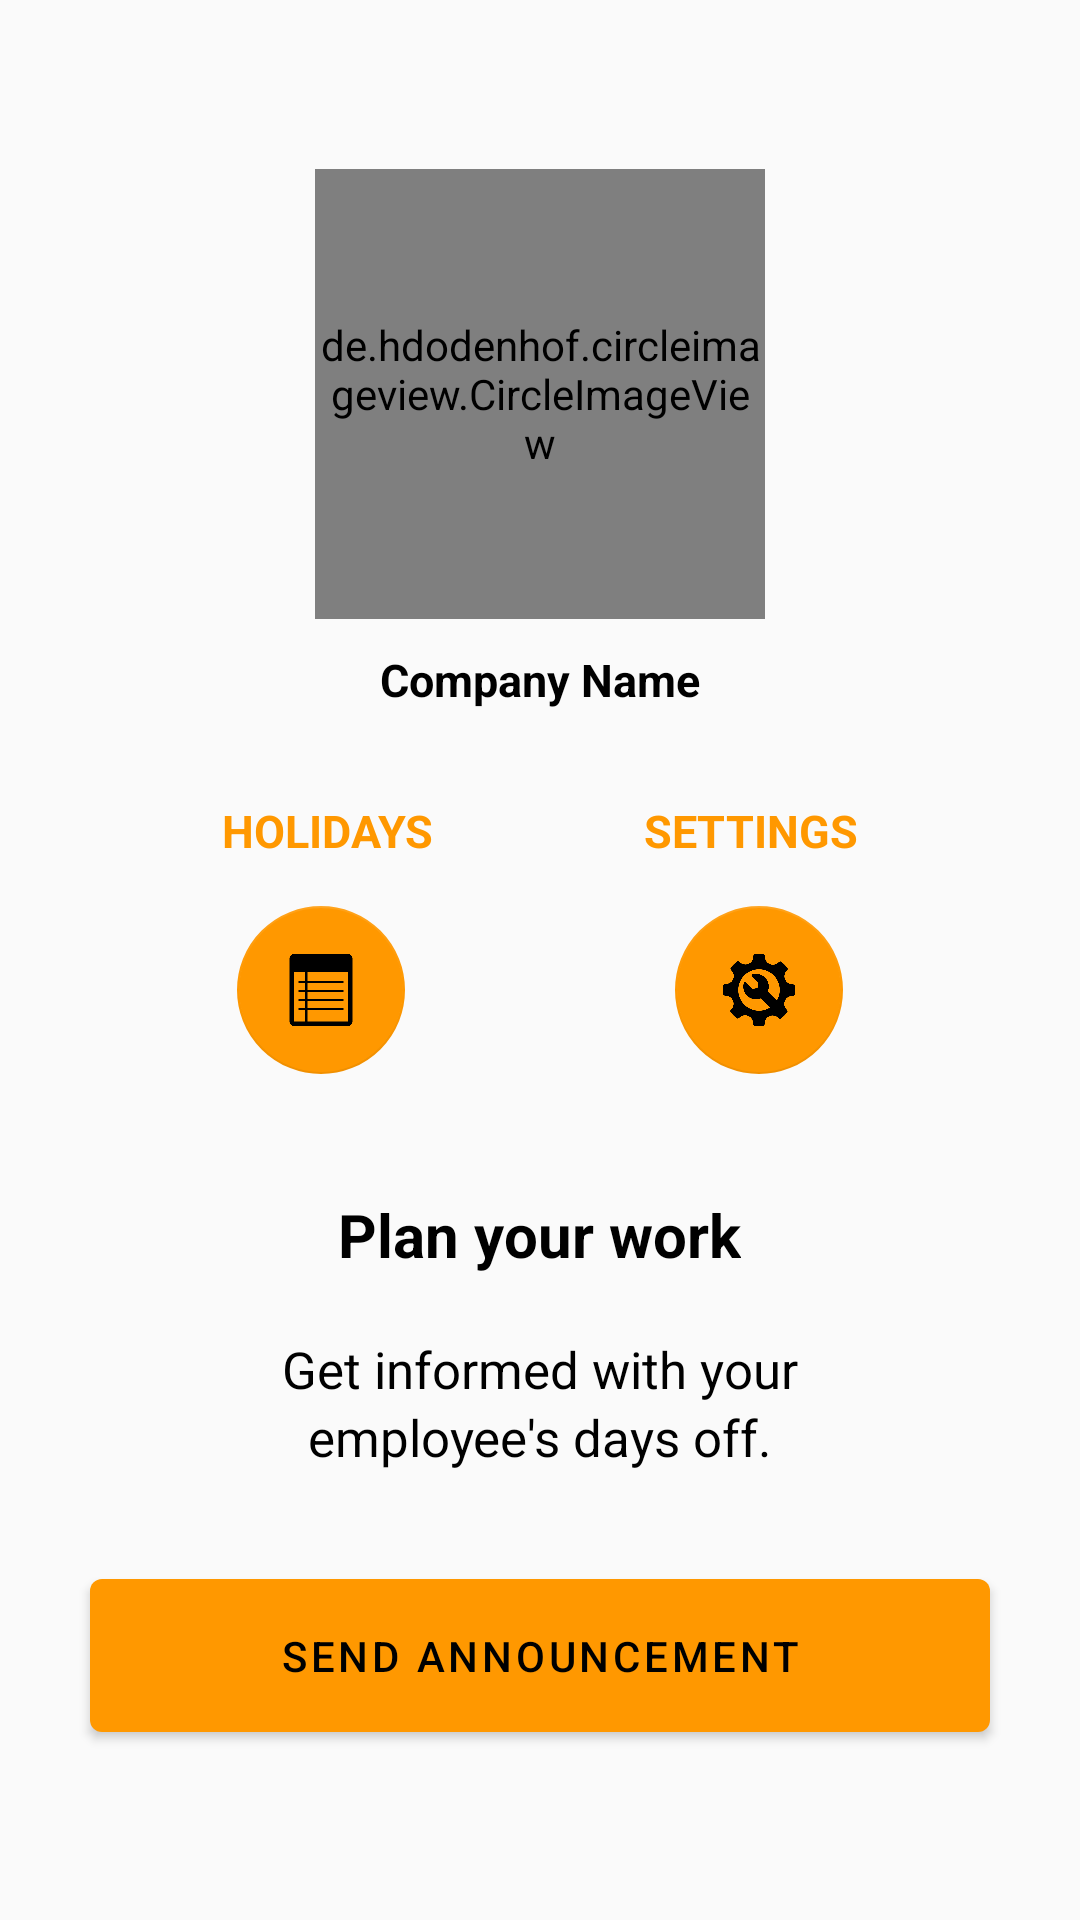

Icons on this 1080px×1920px Android screen, each with the point to tap as (x,y):
iconfinder calendar: (321,990)
